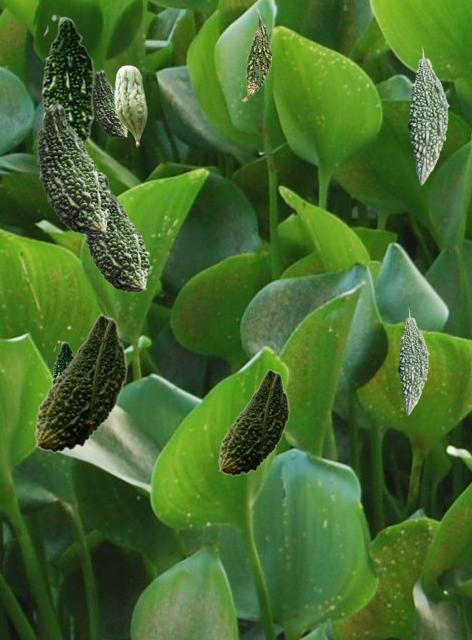ampalaya: (34, 314, 127, 452), (37, 102, 110, 234), (84, 173, 149, 291), (218, 369, 289, 475), (41, 14, 97, 147), (408, 46, 448, 184), (398, 308, 428, 414), (241, 6, 272, 100), (114, 65, 146, 146), (93, 69, 128, 137), (52, 340, 73, 383)
